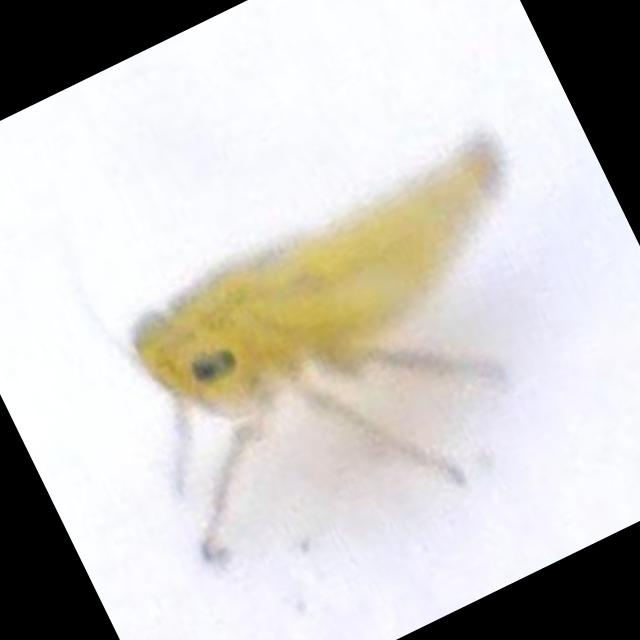green-leafhopper: (104, 128, 566, 478)
